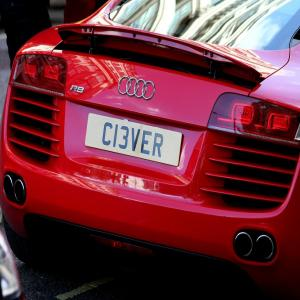Vehicle-registration-plate: (85, 114, 184, 168)
